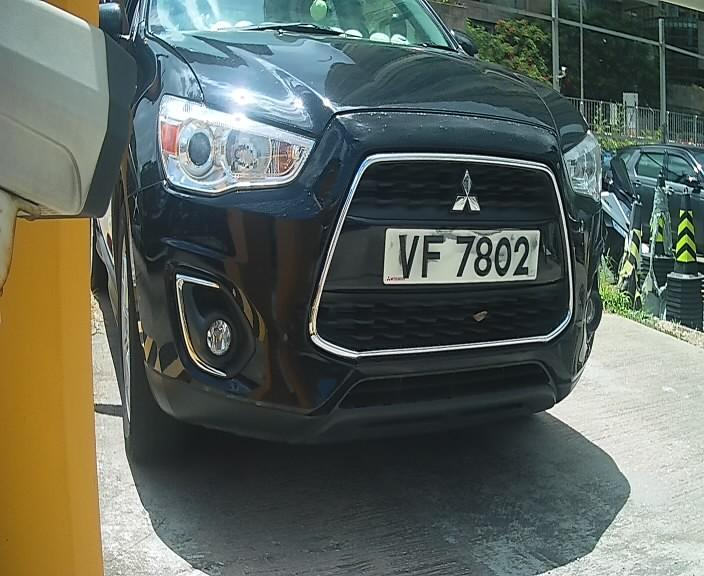Car: (45, 19, 645, 494)
License Plate: (375, 219, 544, 296)
